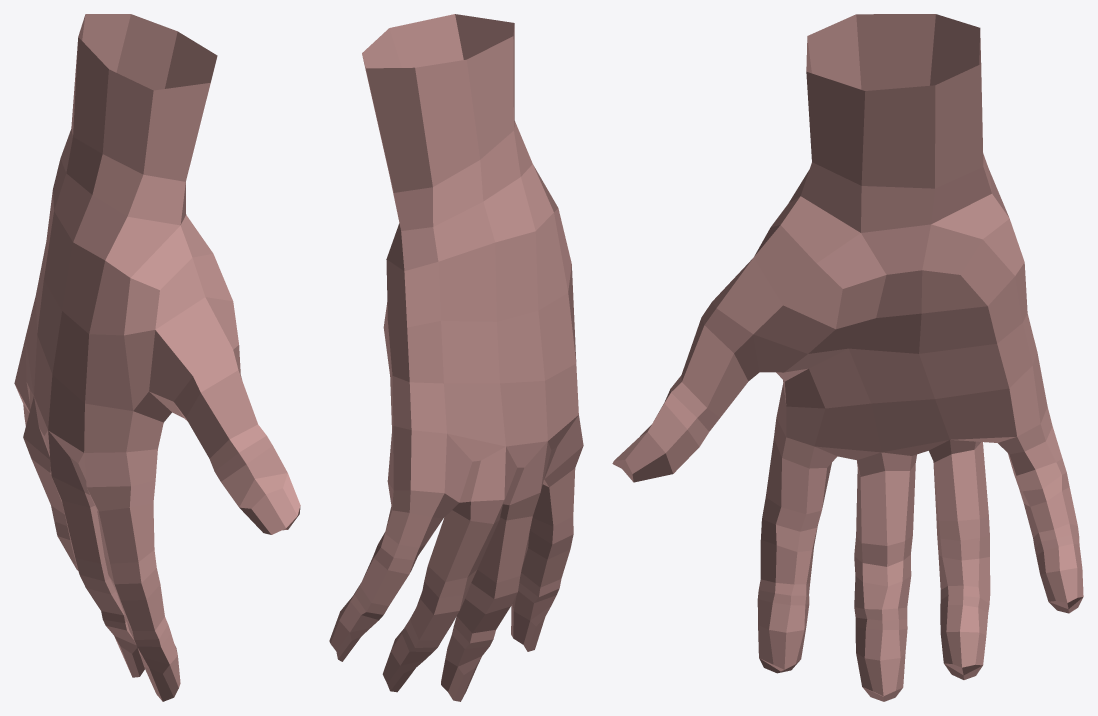
The model's file is SM_Hand.fbx.
3 renders of one model, left to right at view 1: azimuth 30°, elevation 25°; view 2: azimuth 150°, elevation 25°; view 3: azimuth 270°, elevation 25°, orthographic. The views are drawn at different scales.
Visible parts, largest first — view 1: Hand; view 2: Hand; view 3: Hand.
Part boxes in pixels (bbox=[...]): Hand: bbox=[14, 14, 300, 701]; Hand: bbox=[329, 14, 583, 701]; Hand: bbox=[612, 14, 1083, 701].
Bounding box in the file's own units: 28.11 × 106 × 67.44.
